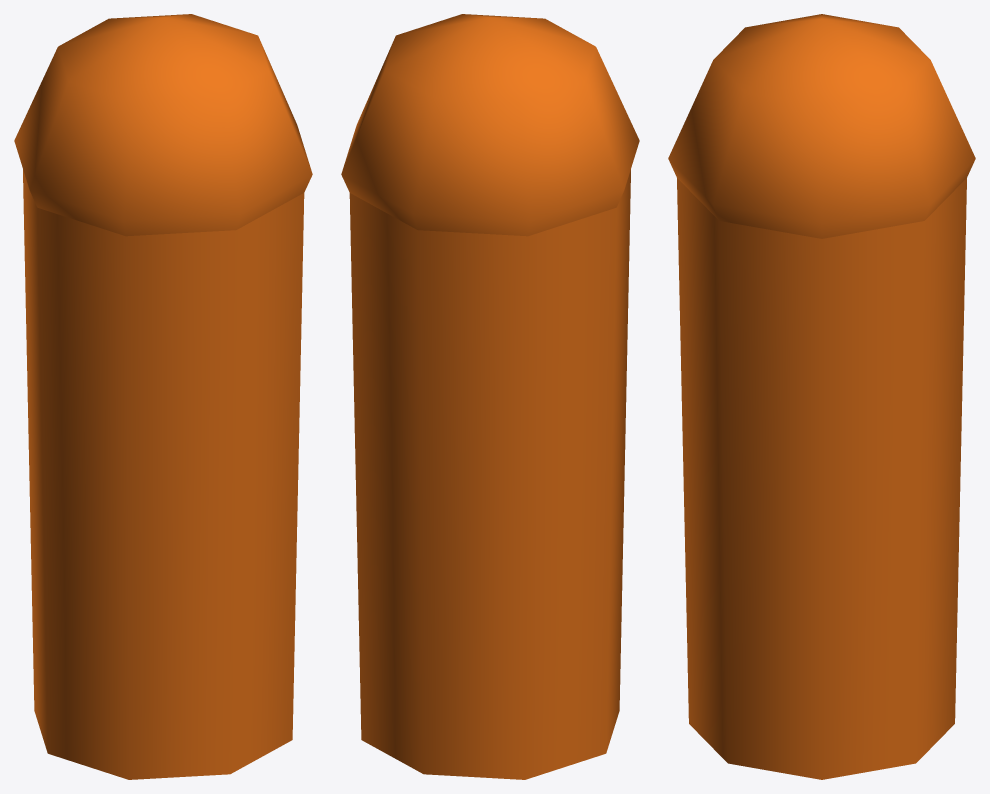
Rendered from PArrodillado_Brazo.obj.
The picture shows the model from 3 angles, left to right: view 1: azimuth 30°, elevation 25°; view 2: azimuth 150°, elevation 25°; view 3: azimuth 270°, elevation 25°; orthographic projection.
Visible parts, largest first — view 1: Brazo; view 2: Brazo; view 3: Brazo.
Boxes of the visible parts, x1,y1,x2,y2 form: Brazo: [14, 14, 312, 779]; Brazo: [341, 14, 639, 779]; Brazo: [668, 14, 975, 779].
Bounding box in the file's own units: 0.074 × 0.187 × 0.074.
1 material, 1 textured.
